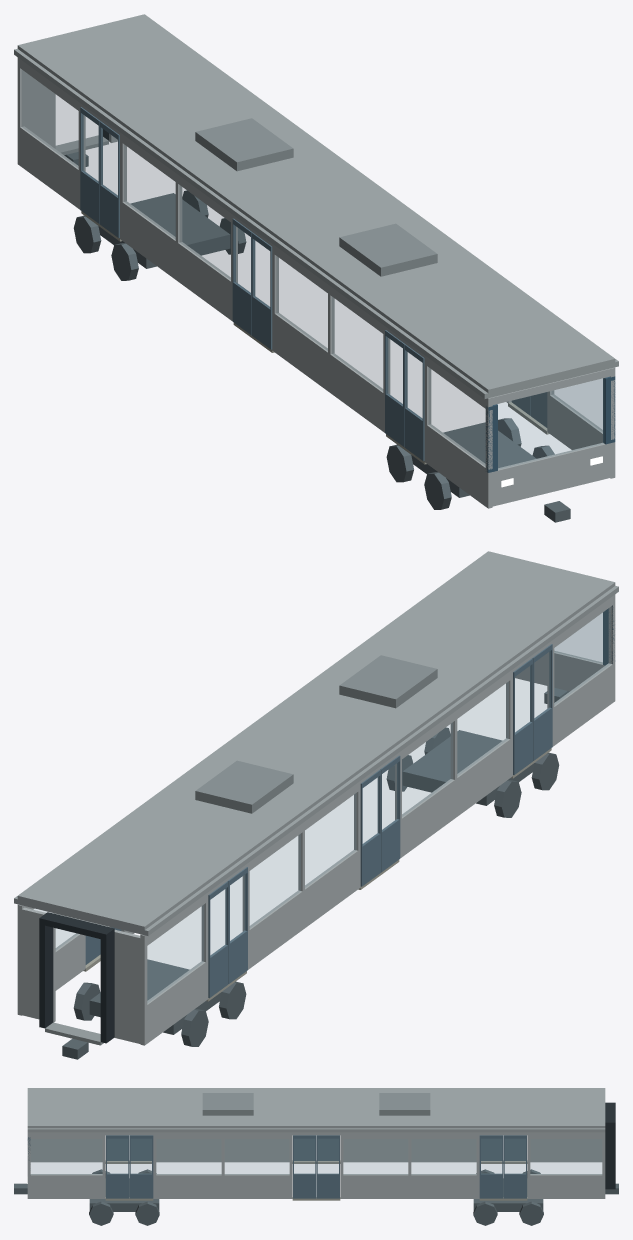
The model's file is expo-metro-lead-exterior.lod1.glb.
The picture shows the model from 3 angles, top to bottom: view 1: azimuth 30°, elevation 25°; view 2: azimuth 150°, elevation 25°; view 3: azimuth 270°, elevation 25°; orthographic projection. The views are drawn at different scales.
Visible parts, largest first — view 1: body-shell, glass, bogie-rear-frame, door-right-center-b, door-right-front-b, door-right-rear-b, door-right-center-a, door-right-rear-a, door-right-front-a, bogie-front-frame, wheel-front-front-right, wheel-rear-front-right (+2 smaller); view 2: body-shell, glass, bogie-front-frame, door-right-center-a, door-right-rear-a, door-right-front-a, door-right-center-b, door-right-front-b, door-right-rear-b, bogie-rear-frame, wheel-front-rear-right, wheel-rear-rear-right (+2 smaller); view 3: body-shell, glass, door-left-front-a, door-left-rear-b, door-left-center-a, door-left-center-b, door-left-front-b, door-left-rear-a, bogie-front-frame, bogie-rear-frame, door-right-center-a, door-right-center-b (+8 smaller).
Part boxes in pixels (x1=…): body-shell: x1=14, y1=14, x2=618, y2=522; glass: x1=22, y1=70, x2=604, y2=469; bogie-rear-frame: x1=98, y1=193, x2=230, y2=268; door-right-center-b: x1=252, y1=232, x2=272, y2=349; door-right-front-b: x1=404, y1=344, x2=424, y2=461; door-right-rear-b: x1=99, y1=121, x2=119, y2=237; door-right-center-a: x1=232, y1=218, x2=252, y2=335; door-right-rear-a: x1=80, y1=107, x2=100, y2=223; door-right-front-a: x1=385, y1=330, x2=404, y2=446; bogie-front-frame: x1=411, y1=422, x2=536, y2=497; wheel-front-front-right: x1=424, y1=472, x2=451, y2=509; wheel-rear-front-right: x1=111, y1=243, x2=138, y2=280; body-shell: x1=14, y1=551, x2=618, y2=1059; glass: x1=34, y1=607, x2=610, y2=1002; bogie-front-frame: x1=402, y1=730, x2=534, y2=805; door-right-center-a: x1=360, y1=769, x2=380, y2=886; door-right-rear-a: x1=208, y1=881, x2=228, y2=998; door-right-front-a: x1=513, y1=658, x2=533, y2=774; door-right-center-b: x1=380, y1=755, x2=400, y2=872; door-right-front-b: x1=532, y1=644, x2=552, y2=760; door-right-rear-b: x1=228, y1=867, x2=247, y2=983; bogie-rear-frame: x1=89, y1=959, x2=221, y2=1034; wheel-front-rear-right: x1=494, y1=780, x2=521, y2=817; wheel-rear-rear-right: x1=181, y1=1009, x2=208, y2=1046; body-shell: x1=14, y1=1088, x2=618, y2=1200; glass: x1=31, y1=1139, x2=601, y2=1174; door-left-front-a: x1=129, y1=1135, x2=153, y2=1198; door-left-rear-b: x1=479, y1=1135, x2=503, y2=1198; door-left-center-a: x1=316, y1=1135, x2=339, y2=1198; door-left-center-b: x1=293, y1=1135, x2=316, y2=1198; door-left-front-b: x1=106, y1=1135, x2=129, y2=1198; door-left-rear-a: x1=503, y1=1135, x2=526, y2=1198; bogie-front-frame: x1=89, y1=1178, x2=159, y2=1211; bogie-rear-frame: x1=473, y1=1178, x2=543, y2=1211; door-right-center-a: x1=317, y1=1138, x2=338, y2=1160; door-right-center-b: x1=294, y1=1138, x2=315, y2=1160.
Size of the model in its own units: 2.8 by 3.48 by 17.8.
